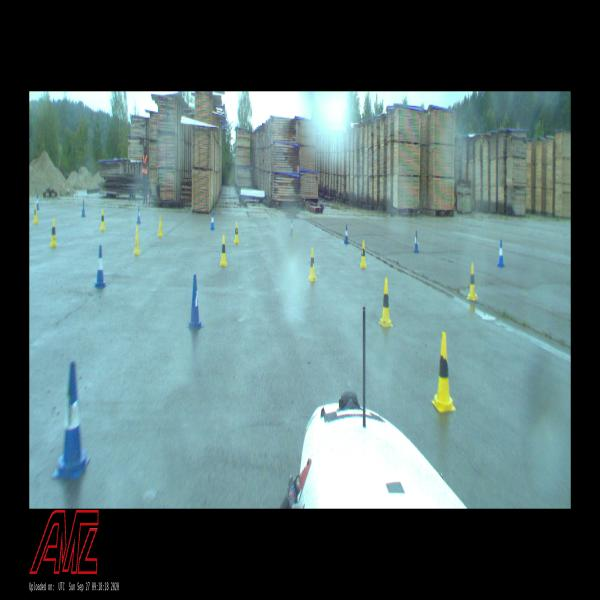blue_cone: (52, 362, 90, 479), (187, 274, 204, 329), (94, 245, 107, 289), (497, 240, 504, 267), (414, 230, 420, 253), (136, 206, 142, 224), (344, 224, 349, 244), (210, 212, 215, 230), (81, 200, 86, 217), (289, 219, 293, 236), (37, 195, 39, 210)
yellow_cone: (431, 332, 456, 412), (379, 277, 393, 327), (467, 263, 478, 300), (308, 247, 317, 281), (220, 235, 228, 266), (133, 226, 141, 254), (50, 218, 57, 248), (360, 241, 367, 268), (33, 204, 39, 224), (100, 209, 105, 231), (234, 222, 239, 244), (158, 215, 163, 236)
